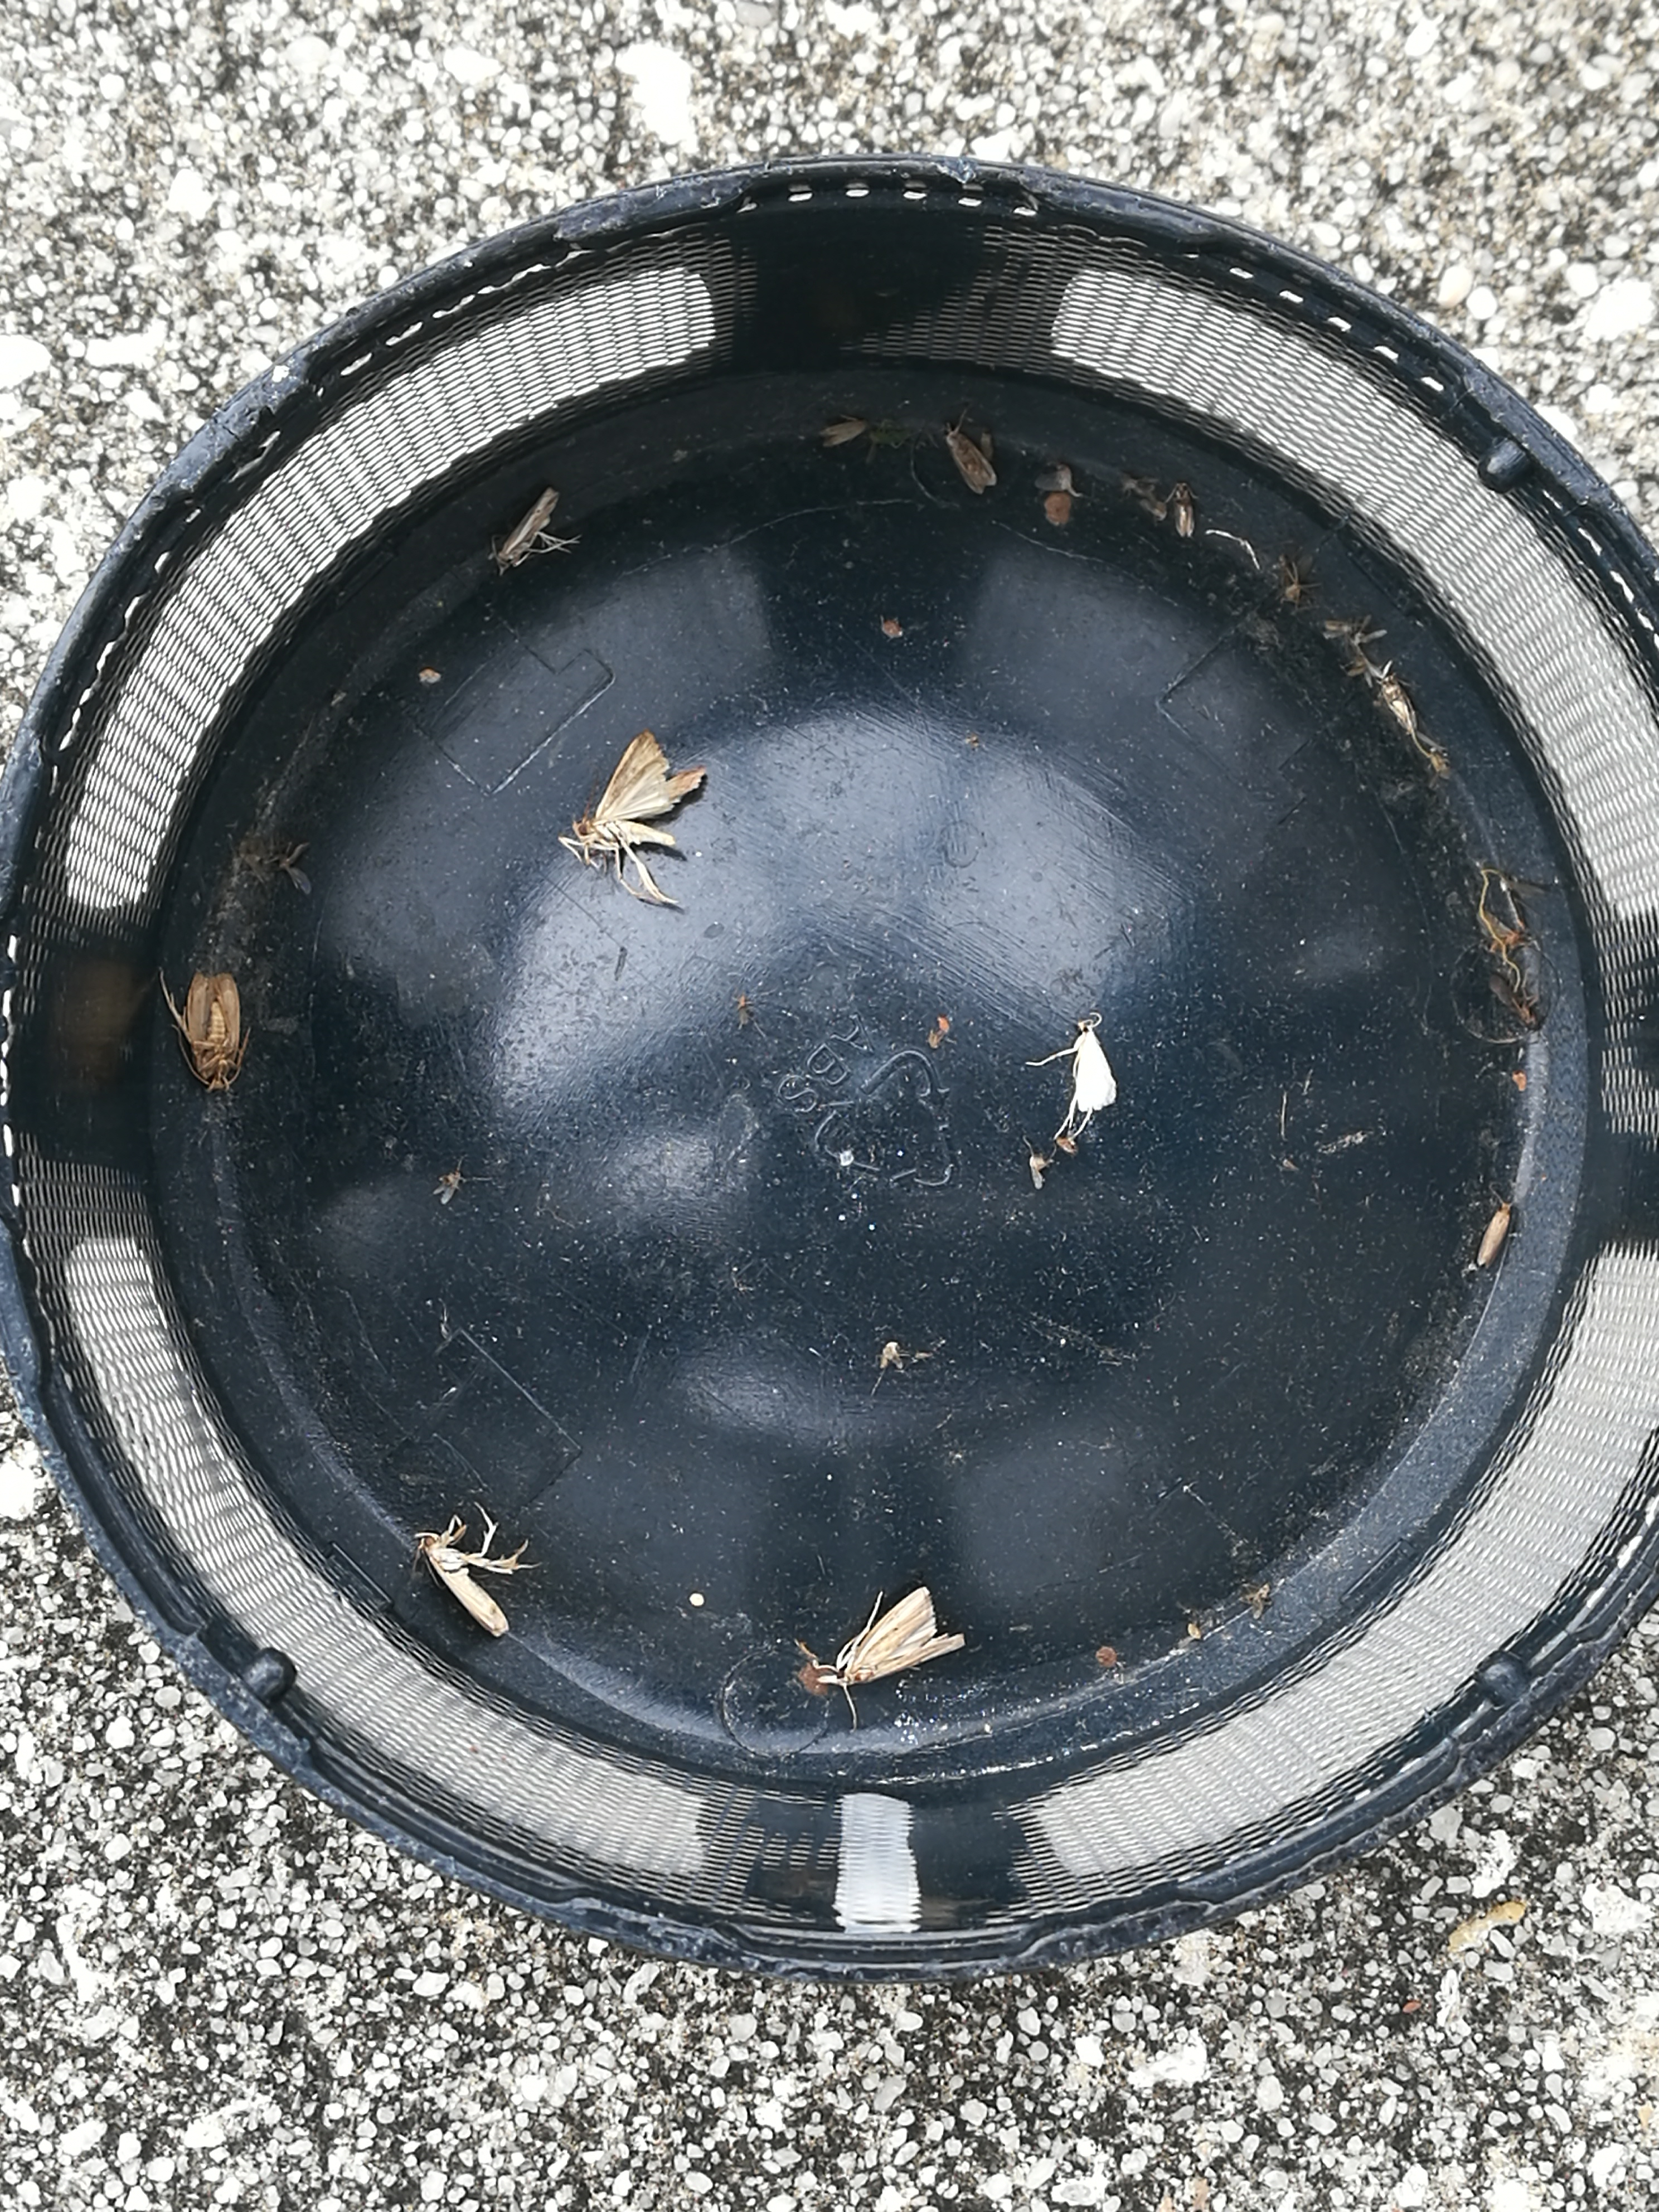mosquito: (495, 486, 558, 564), (1476, 1202, 1511, 1268), (821, 416, 866, 444)
moth: (565, 732, 704, 902), (829, 1587, 965, 1686), (416, 1529, 509, 1637), (186, 974, 242, 1090), (945, 425, 993, 493), (1077, 1026, 1114, 1109)
